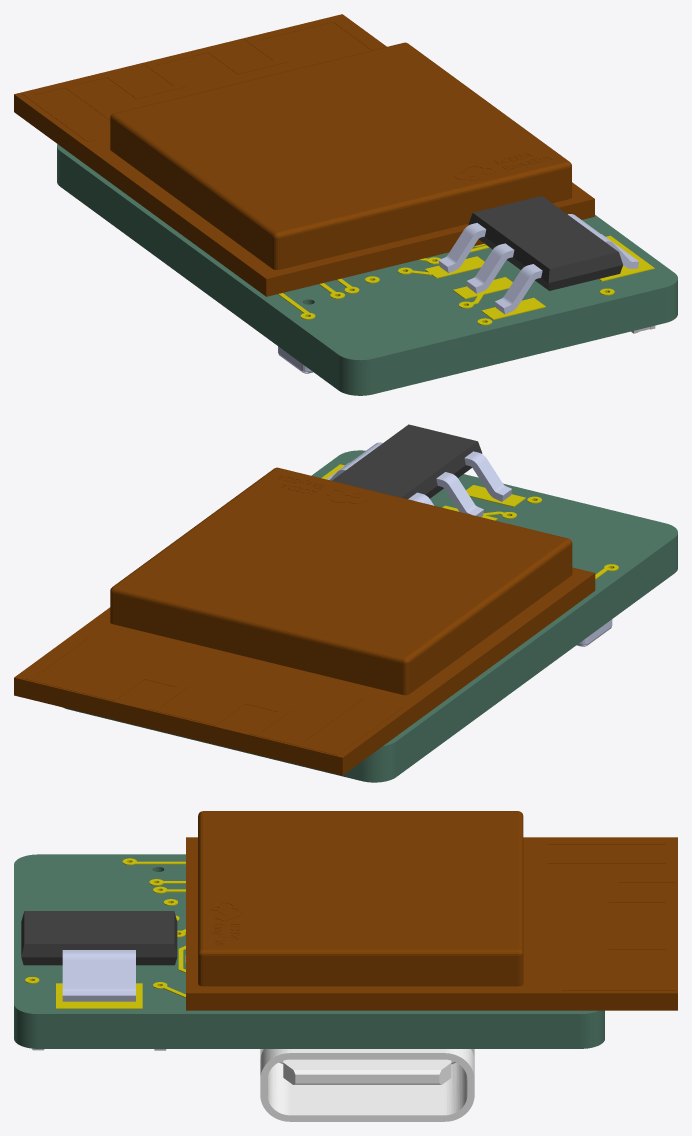
Rendered from SurroundSensePCB.dae.
3 views of the same model, one above another, from view 1: azimuth 30°, elevation 25°; view 2: azimuth 150°, elevation 25°; view 3: azimuth 270°, elevation 25° (orthographic). The views are drawn at different scales.
Parts seen in each view (by area): view 1: node558, node557, node582, node583, node585, node584; view 2: node558, node557, node582, node585, node584; view 3: node558, node557, node587, node582, node588, node586, node266.
Part boxes in pixels (bbox=[...]): node558: bbox=[14, 14, 594, 296]; node557: bbox=[57, 144, 677, 395]; node582: bbox=[468, 196, 622, 290]; node583: bbox=[438, 223, 486, 273]; node585: bbox=[495, 264, 542, 314]; node584: bbox=[466, 243, 514, 293]; node558: bbox=[14, 467, 595, 775]; node557: bbox=[64, 450, 677, 782]; node582: bbox=[332, 424, 482, 499]; node585: bbox=[464, 451, 511, 501]; node584: bbox=[436, 472, 483, 516]; node558: bbox=[186, 811, 677, 1010]; node557: bbox=[14, 854, 604, 1048]; node587: bbox=[260, 1049, 474, 1121]; node582: bbox=[21, 911, 177, 965]; node588: bbox=[279, 1059, 455, 1084]; node586: bbox=[62, 950, 135, 1001]; node266: bbox=[56, 983, 142, 1008].
Bounding box in the file's own units: 0.0158 × 0.0277 × 0.00739.
